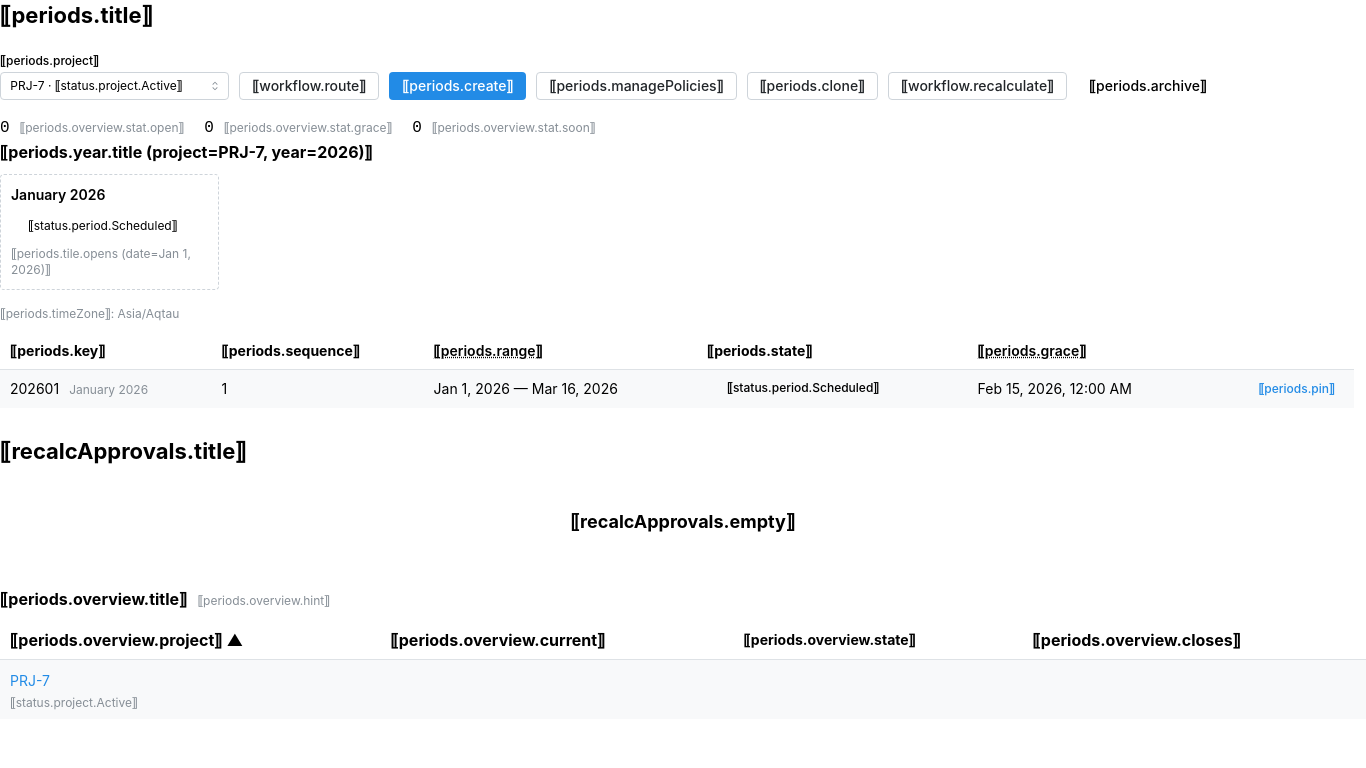
it: PeriodsPage: правдивий стан перерахунку проєкту (P4 ФВ-9.8) › розкладено, документи ще рахуються — не «завершено», прогрес на екрані, опитування триває; M = N, K = 0 — «завершено»
The image size is (1366, 768).
Click the button "⟦workflow.recalculate⟧" at [978, 86], box [888,72,1067,100]
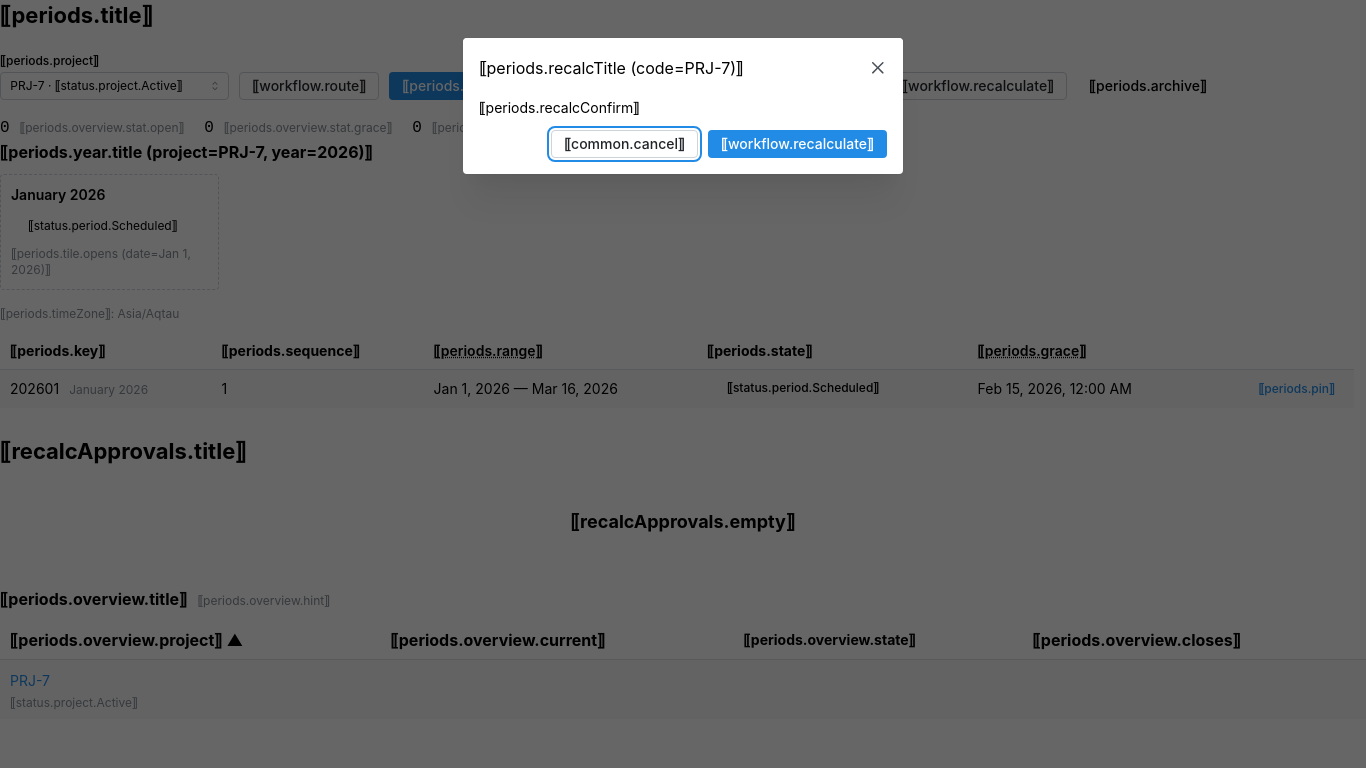
Click the button "⟦workflow.recalculate⟧" at [798, 145], box [708,131,887,159]
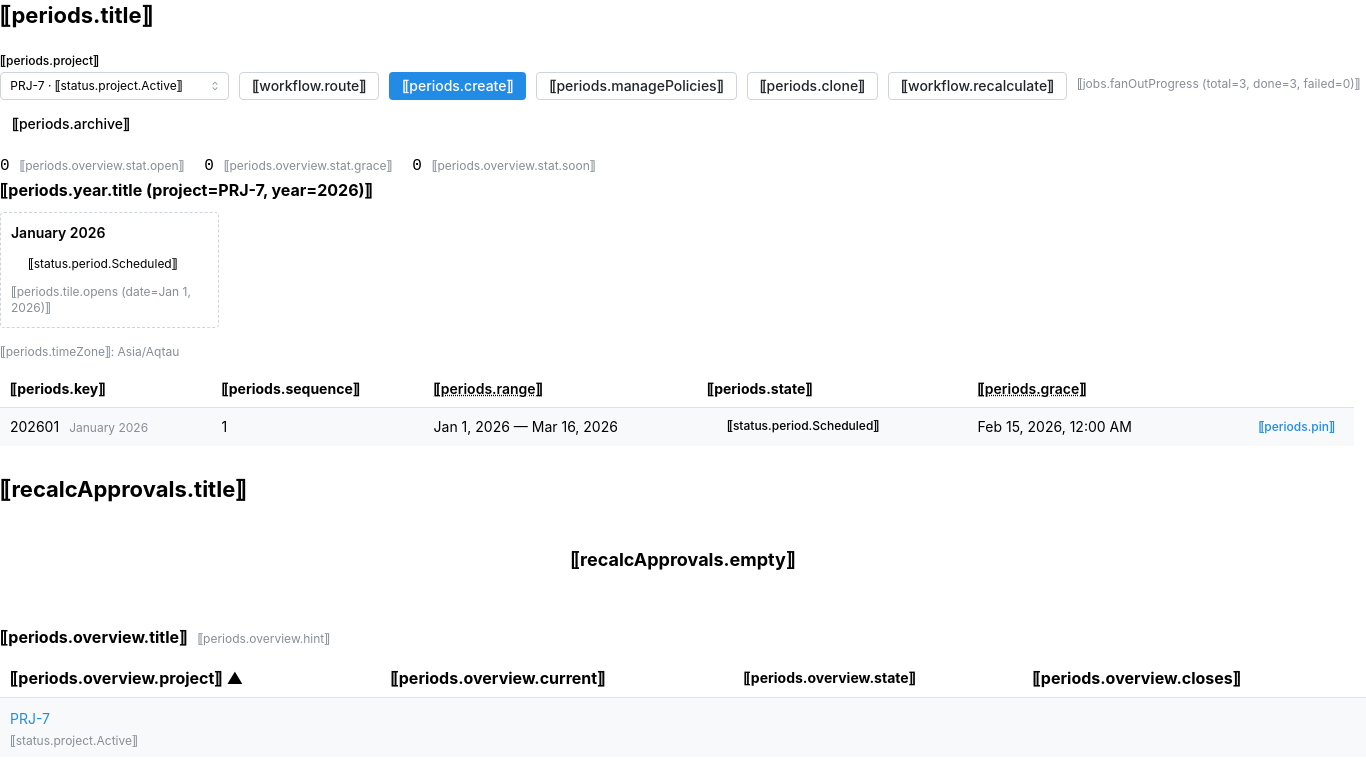
Expected: the button named "⟦workflow.recalcRunning⟧" is shown, [888,72,1067,100]
Expected: the text "⟦jobs.fanOutProgress (total=3, done=3, failed=0)⟧" is shown, [1077,76,1360,93]
